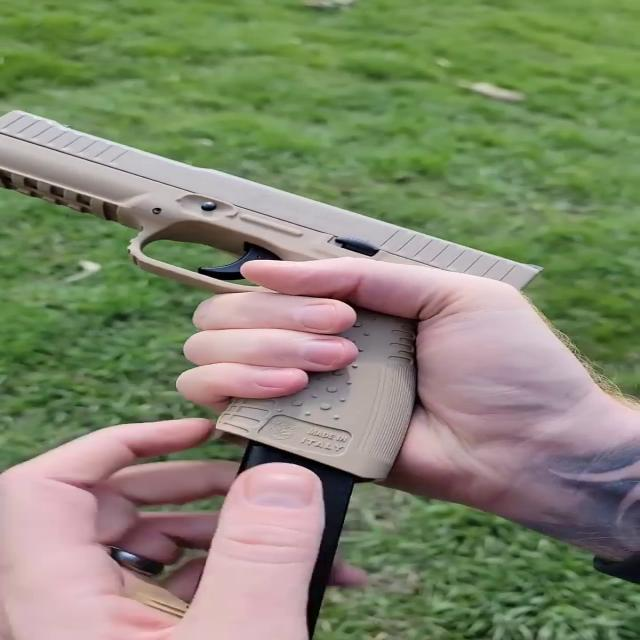Handgun: (0, 106, 584, 483)
